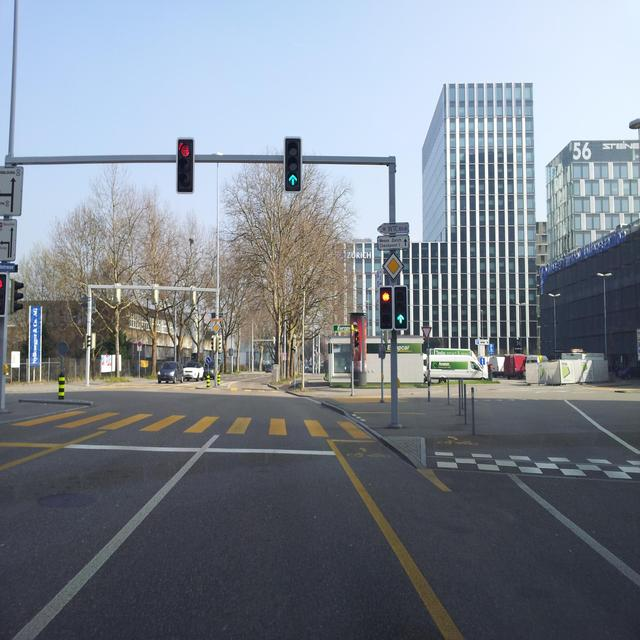Billboard: (539, 226, 625, 293), (333, 325, 421, 353), (477, 340, 520, 356), (29, 306, 40, 366), (101, 354, 115, 372)
Car: (423, 348, 548, 383), (157, 361, 214, 383), (612, 366, 639, 378)
Manhole: (38, 493, 94, 506)
Vegetation: (436, 331, 513, 356), (523, 345, 540, 355)
